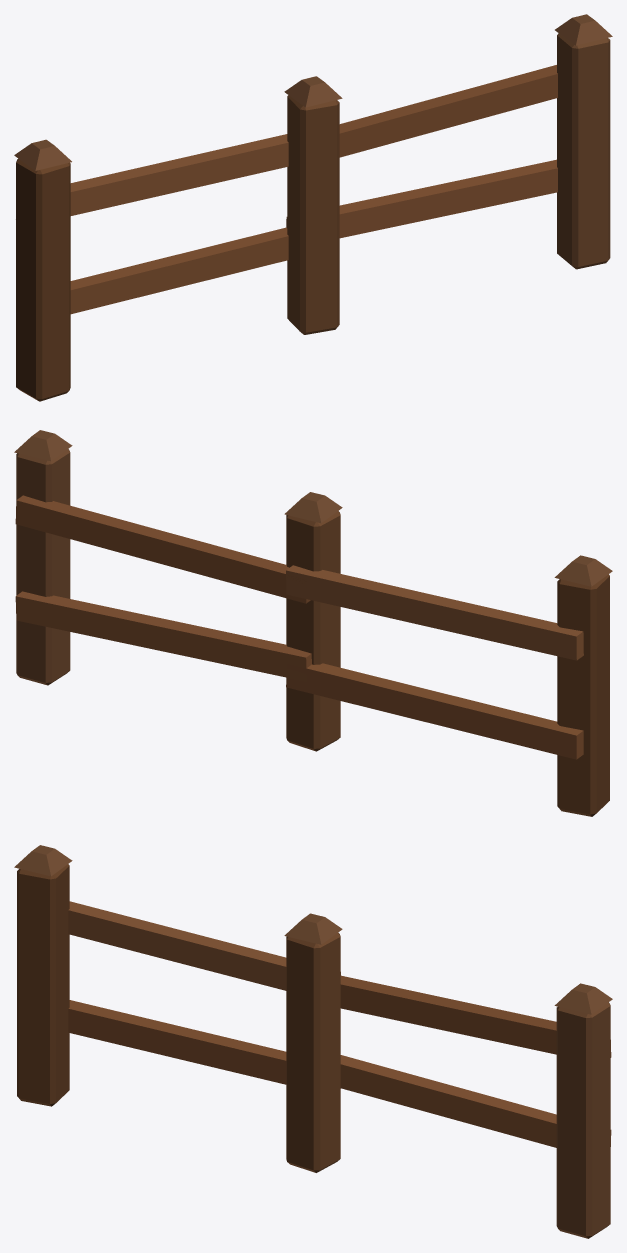
File: Fence.glb
3 views of the same model, one above another, from view 1: azimuth 30°, elevation 25°; view 2: azimuth 150°, elevation 25°; view 3: azimuth 330°, elevation 25° (orthographic).
Visible parts, largest first — view 1: Body; view 2: Body; view 3: Body.
Part boxes in pixels (<box>): Body: <box>14,14,612,401</box>; Body: <box>14,430,612,816</box>; Body: <box>14,845,612,1238</box>.
Size of what is drawn, in the model's own units: 8.58 by 3.5 by 0.7415.
